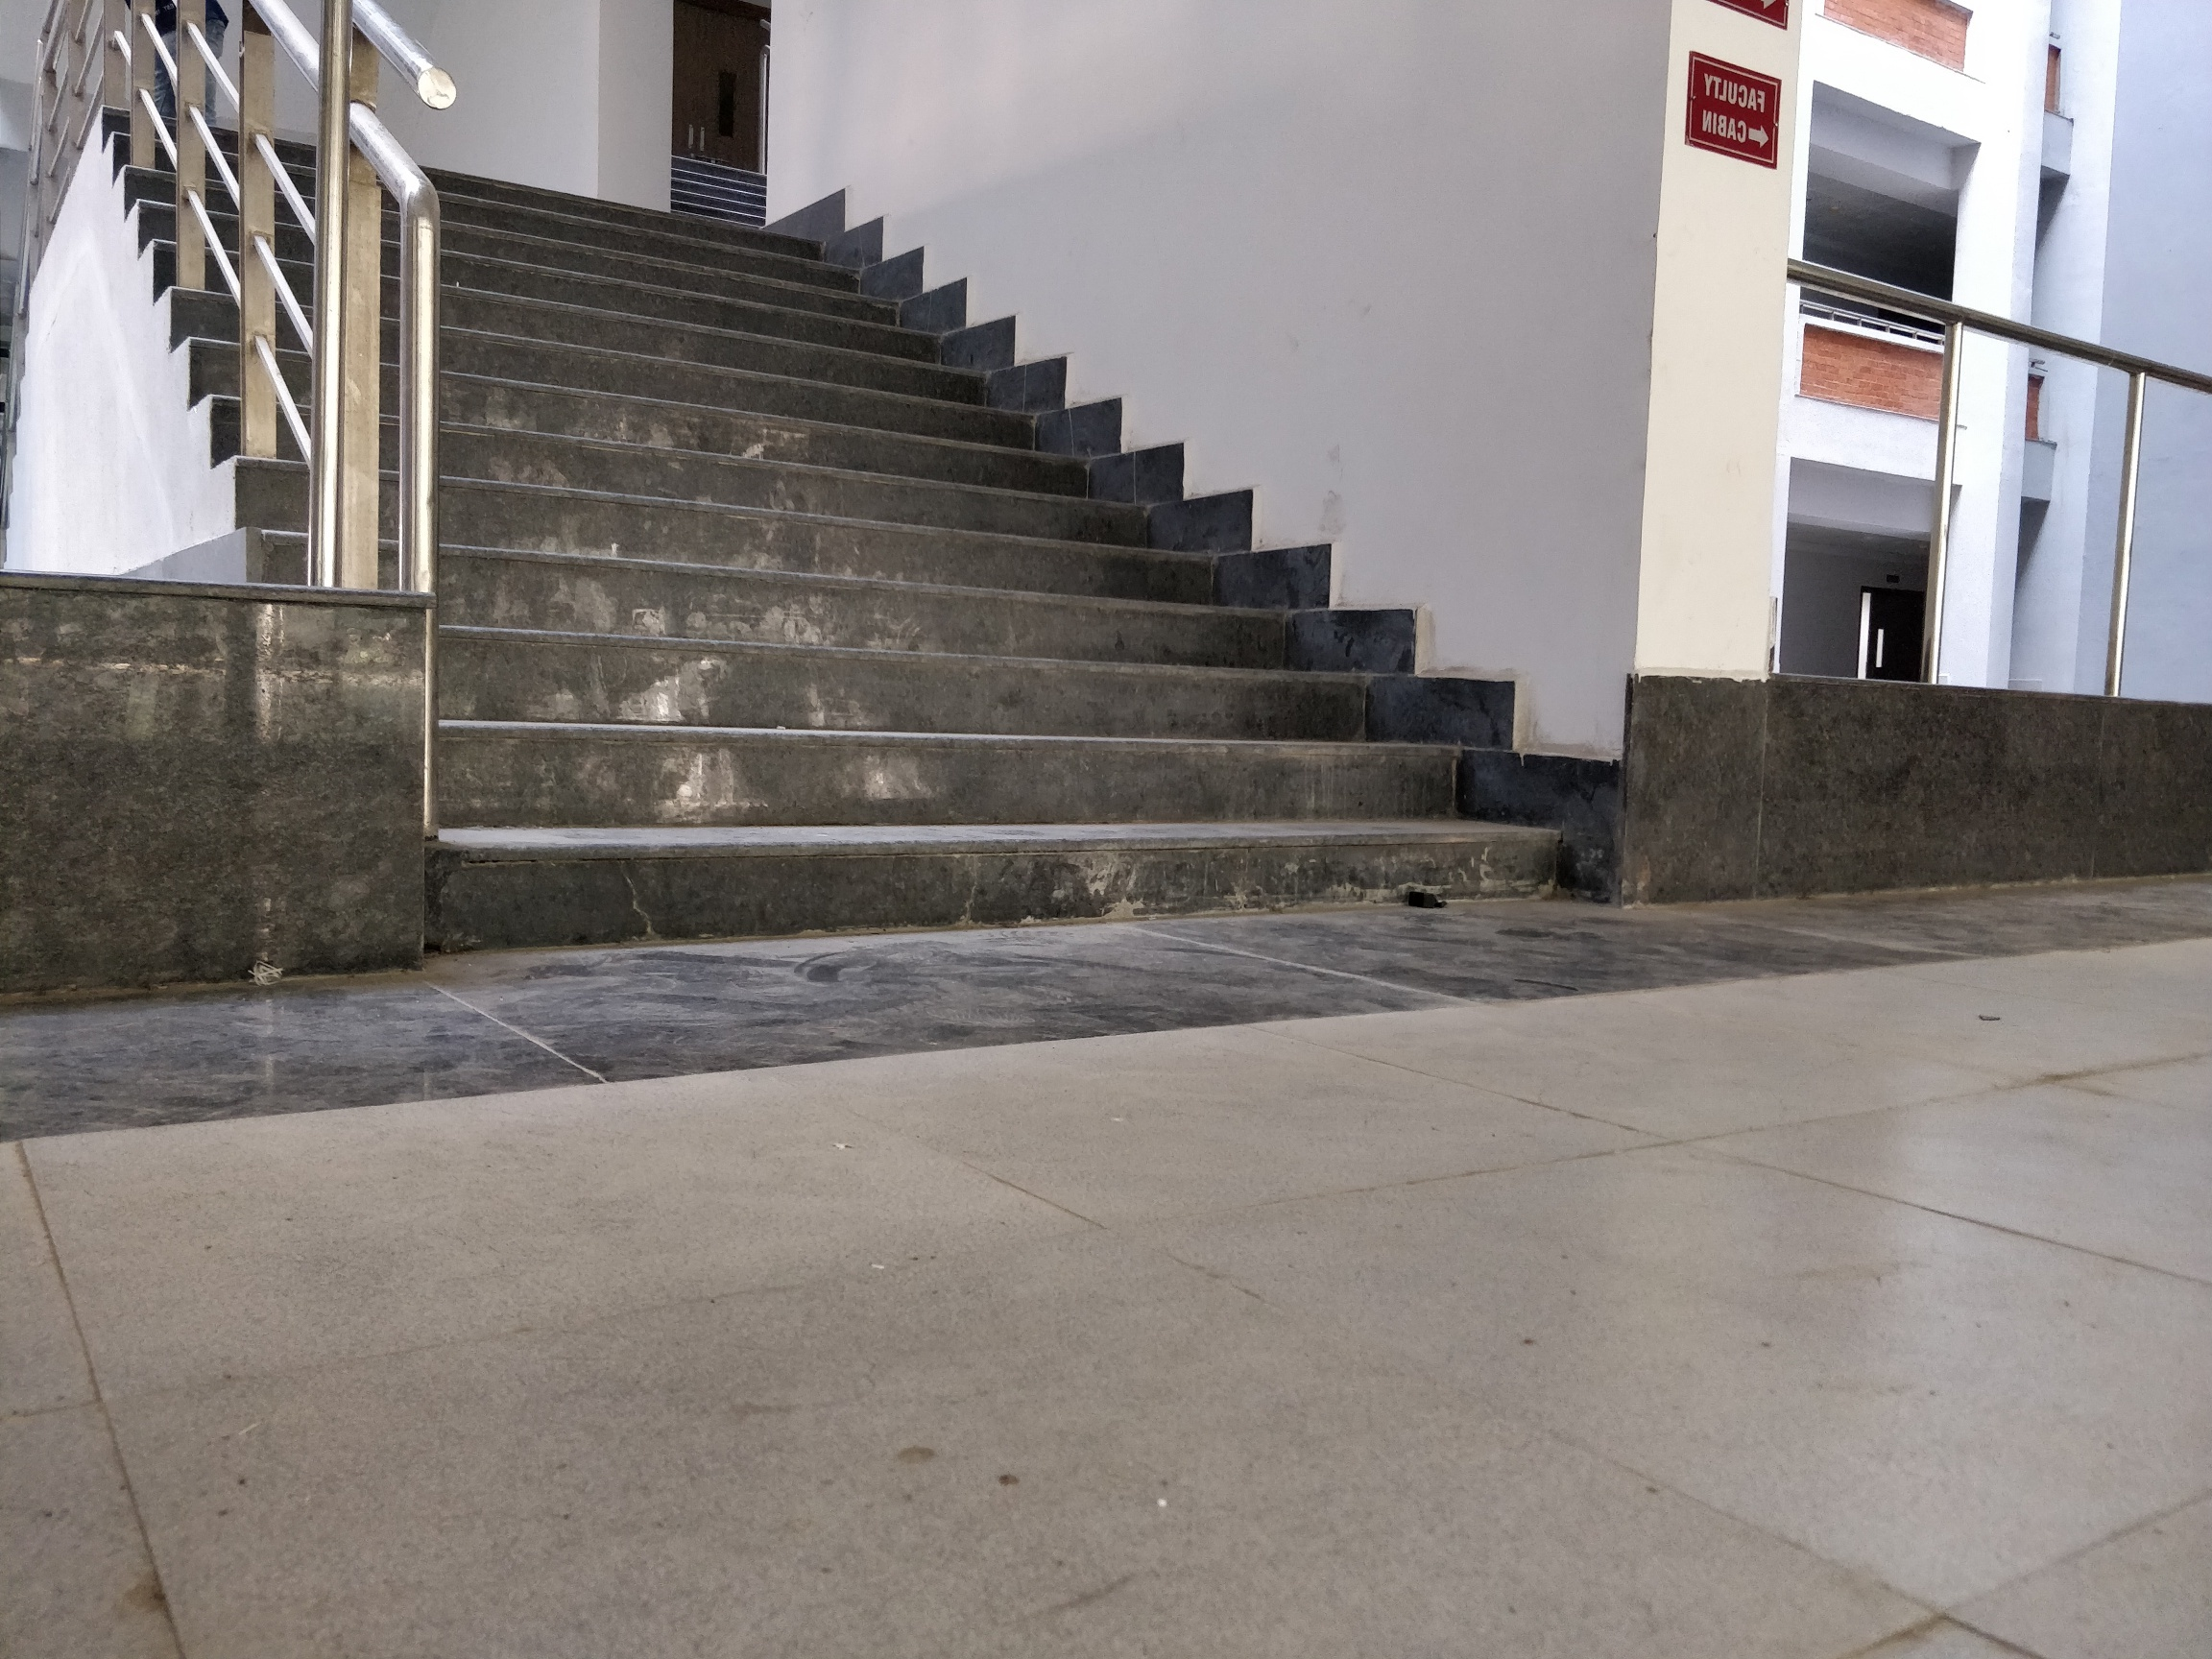stairs_up: (117, 108, 1564, 925)
